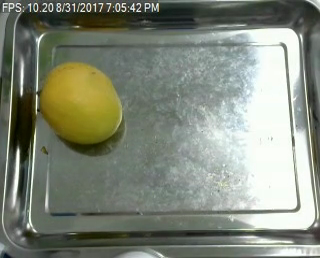Mango: (41, 61, 121, 145)
